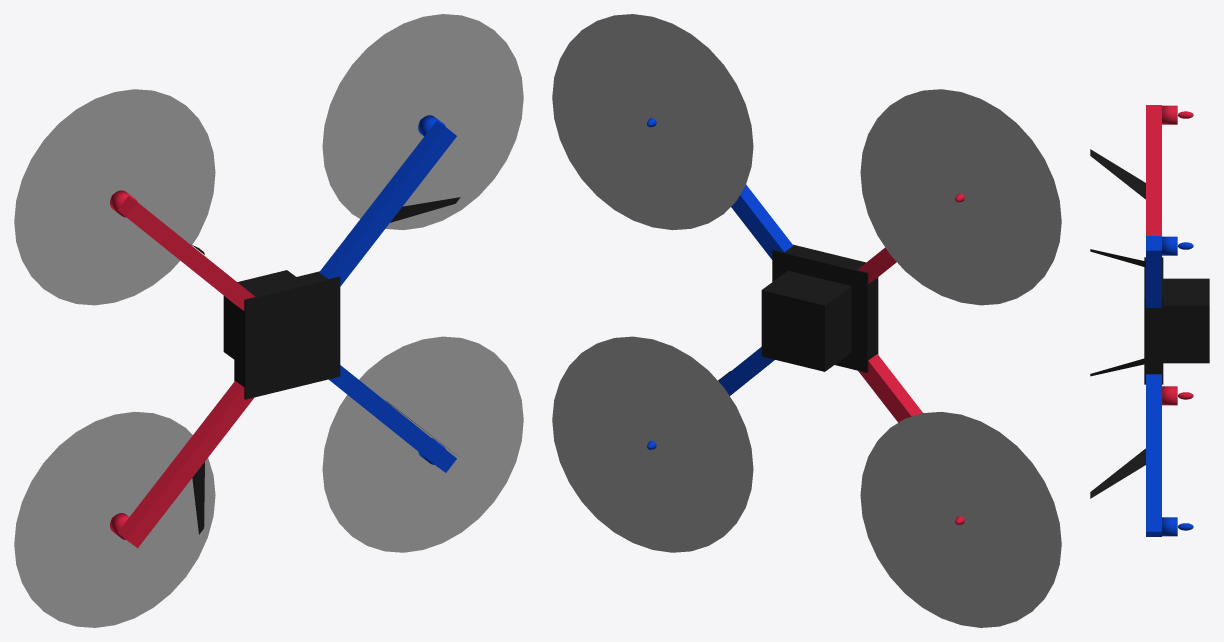
The model's file is 3dr_arducopter_quad_x.glb.
The picture shows the model from 3 angles, left to right: view 1: azimuth 30°, elevation 25°; view 2: azimuth 150°, elevation 25°; view 3: azimuth 270°, elevation 25°; orthographic projection. The views are drawn at different scales.
Parts seen in each view (by area): view 1: Prop.003_Circle.000_Gray_Plastic, Prop.001_Circle.002_Gray_Plastic, Prop.004_Circle.000_Gray_Plastic, Prop.002_Circle.002_Gray_Plastic, Base_Cube_Textolite, Arm.003_Cube.002_Black_Metal, Arm_Cube.004_Blue_Metal, Arm.002_Cube.002_Black_Metal, Arm.001_Cube.004_Blue_Metal, Body_Cube.001_Textolite; view 2: Prop.002_Circle.002_Gray_Plastic, Prop.004_Circle.000_Gray_Plastic, Prop.003_Circle.000_Gray_Plastic, Prop.001_Circle.002_Gray_Plastic, Body_Cube.001_Textolite, Base_Cube_Textolite, Arm_Cube.004_Blue_Metal, Arm.003_Cube.002_Black_Metal, Arm.001_Cube.004_Blue_Metal; view 3: Body_Cube.001_Textolite, Arm.001_Cube.004_Blue_Metal, Arm.002_Cube.002_Black_Metal, Base_Cube_Textolite, Arm_Cube.004_Blue_Metal, Leg.003_Plane.000_Textolite, Leg.001_Plane.001_Textolite, Motor.001_Cylinder_Blue_Metal, Motor.003_Cylinder.001_Blue_Metal, Motor_Cylinder_Blue_Metal, Motor.004_Cylinder.001_Blue_Metal, Leg_Plane.001_Textolite (+1 smaller).
Boxes of the visible parts, x1,y1,x2,y2 form: Prop.003_Circle.000_Gray_Plastic: [14, 89, 215, 305]; Prop.001_Circle.002_Gray_Plastic: [322, 336, 523, 552]; Prop.004_Circle.000_Gray_Plastic: [14, 411, 215, 627]; Prop.002_Circle.002_Gray_Plastic: [322, 14, 523, 230]; Base_Cube_Textolite: [234, 271, 340, 399]; Arm.003_Cube.002_Black_Metal: [117, 381, 253, 548]; Arm_Cube.004_Blue_Metal: [319, 120, 456, 286]; Arm.002_Cube.002_Black_Metal: [117, 195, 255, 310]; Arm.001_Cube.004_Blue_Metal: [328, 365, 456, 472]; Body_Cube.001_Textolite: [223, 270, 295, 359]; Prop.002_Circle.002_Gray_Plastic: [552, 14, 753, 230]; Prop.004_Circle.000_Gray_Plastic: [860, 411, 1061, 627]; Prop.003_Circle.000_Gray_Plastic: [860, 89, 1061, 305]; Prop.001_Circle.002_Gray_Plastic: [552, 336, 753, 552]; Body_Cube.001_Textolite: [761, 270, 851, 371]; Base_Cube_Textolite: [772, 244, 878, 372]; Arm_Cube.004_Blue_Metal: [731, 184, 793, 259]; Arm.003_Cube.002_Black_Metal: [858, 354, 922, 422]; Arm.001_Cube.004_Blue_Metal: [718, 347, 774, 395]; Body_Cube.001_Textolite: [1163, 278, 1209, 363]; Arm.001_Cube.004_Blue_Metal: [1146, 374, 1161, 536]; Arm.002_Cube.002_Black_Metal: [1146, 105, 1161, 235]; Base_Cube_Textolite: [1144, 257, 1163, 384]; Arm_Cube.004_Blue_Metal: [1146, 236, 1161, 307]; Leg.003_Plane.000_Textolite: [1090, 149, 1145, 199]; Leg.001_Plane.001_Textolite: [1090, 448, 1145, 498]; Motor.001_Cylinder_Blue_Metal: [1162, 517, 1177, 536]; Motor.003_Cylinder.001_Blue_Metal: [1162, 105, 1177, 124]; Motor_Cylinder_Blue_Metal: [1162, 236, 1177, 255]; Motor.004_Cylinder.001_Blue_Metal: [1162, 386, 1177, 405]; Leg_Plane.001_Textolite: [1090, 249, 1145, 267].
Size of the model in its own units: 0.6429 by 0.6429 by 0.1497.
